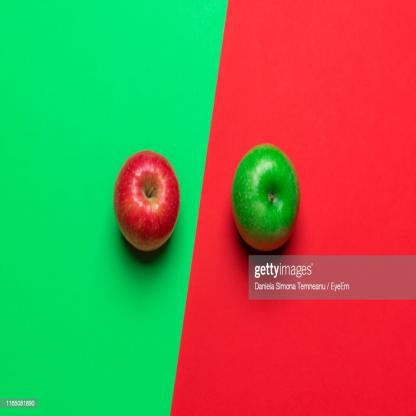Apple: (229, 126, 306, 262), (109, 142, 192, 264)
